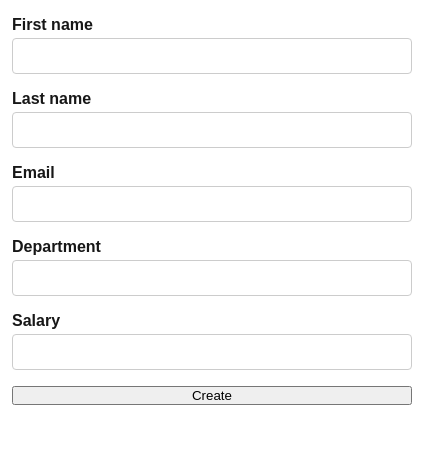
Test: EmployeeForm › shows the error returned by the action instead of navigating away
Type "Jane" into the field labelled "First name" at {"x": 212, "y": 56}, box [12, 38, 412, 74]
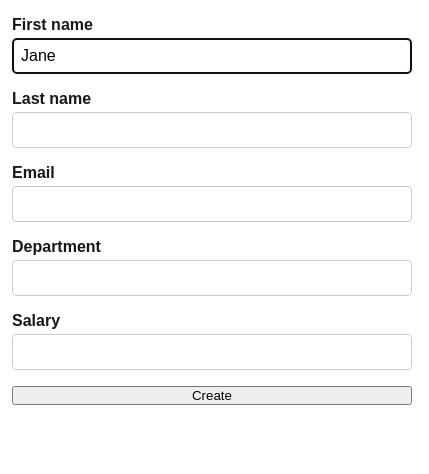
Type "Doe" into the field labelled "Last name" at {"x": 212, "y": 130}, box [12, 112, 412, 148]
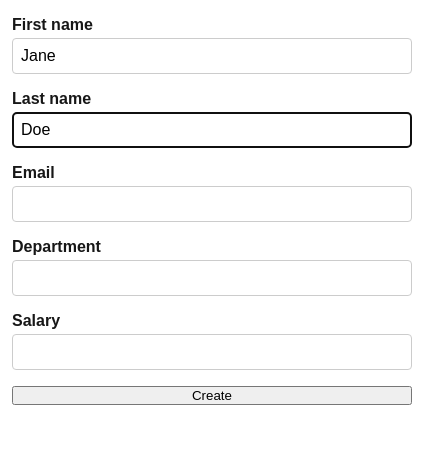
Type "jane.doe@example.com" into the field labelled "Email" at {"x": 212, "y": 204}, box [12, 186, 412, 222]
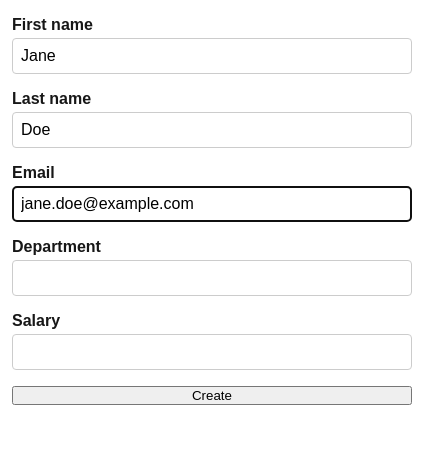
Type "Sales" into the field labelled "Department" at {"x": 212, "y": 278}, box [12, 260, 412, 296]
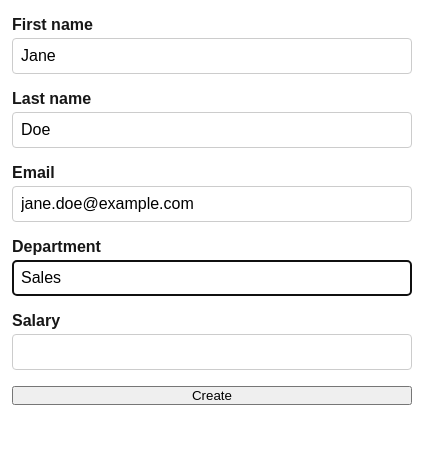
Type "60000" into the number field labelled "Salary" at {"x": 212, "y": 352}, box [12, 334, 412, 370]
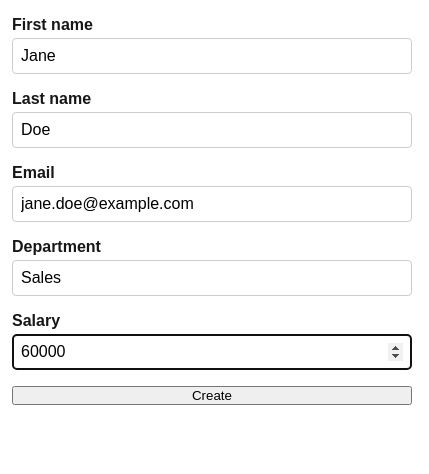
Click the button "Create" at {"x": 212, "y": 396}, box [12, 386, 412, 405]
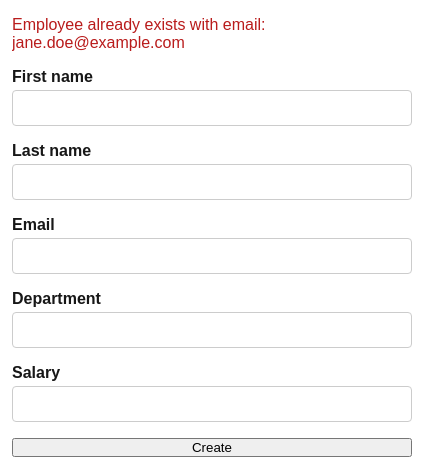
Now the text "Employee already exists with email: jane.doe@example.com" is shown, box [12, 16, 265, 51]
